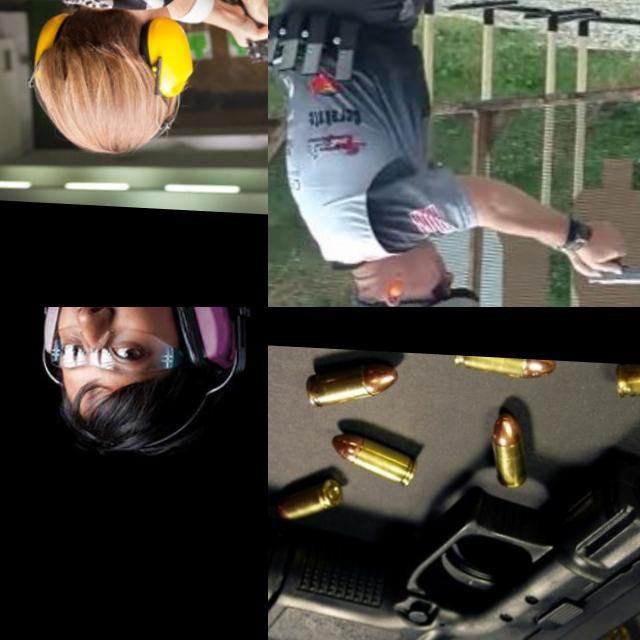handgun: (268, 418, 640, 640), (0, 307, 64, 420), (581, 255, 640, 292), (242, 26, 268, 70)
